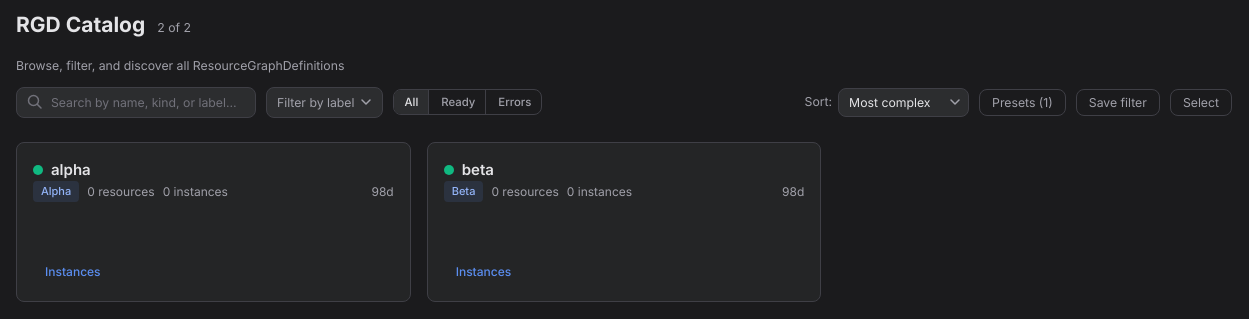
it: Catalog filter presets › deletes a preset
Expected: the element with test id "catalog-card-alpha" is shown, [16,142,411,302]
Click the button with test id "catalog-presets-toggle" at point(1022, 102), box [979,89,1066,116]
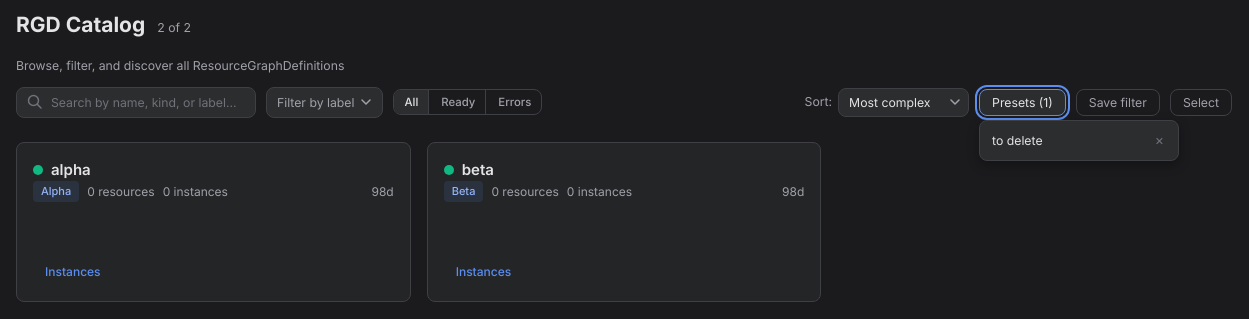
Now the button "to delete" is shown, box [984,127,1145,154]
Click the button with test id "catalog-preset-delete-p2" at point(1159, 140), box [1149,131,1170,149]
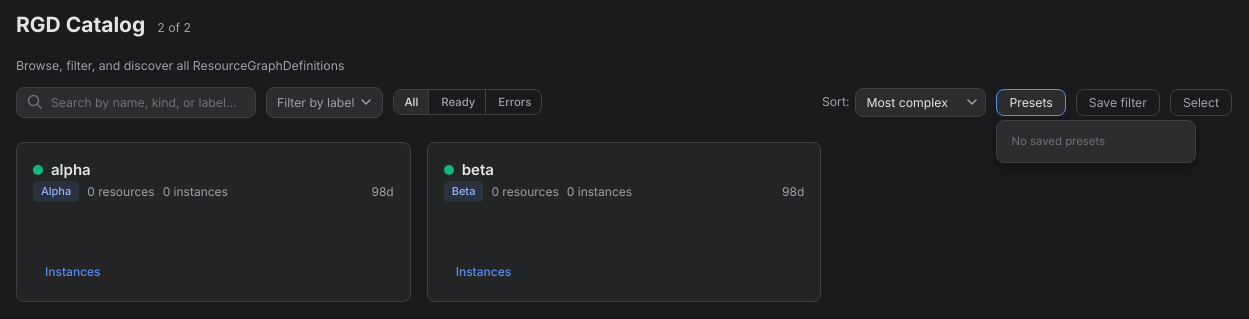
Now the button "to delete" is gone
